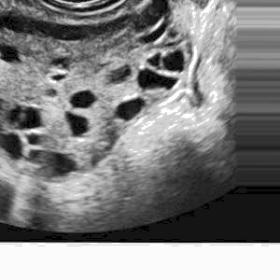PCOS: (144, 68, 176, 89), (56, 151, 78, 173), (67, 111, 86, 136), (3, 132, 22, 153), (117, 102, 140, 118), (1, 48, 22, 65), (164, 52, 183, 70), (110, 67, 130, 82), (23, 108, 37, 129), (8, 107, 23, 123), (29, 148, 43, 164), (76, 93, 94, 105), (56, 56, 72, 67), (168, 29, 184, 40), (148, 57, 162, 68), (53, 72, 65, 82), (164, 41, 180, 48), (28, 134, 38, 145), (51, 88, 57, 102)
